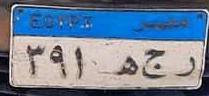1: (71, 45, 87, 82)
3: (24, 40, 47, 79)
9: (48, 42, 68, 81)
haa: (112, 52, 140, 78)
jeem: (139, 46, 169, 82)
raa: (174, 54, 198, 81)
